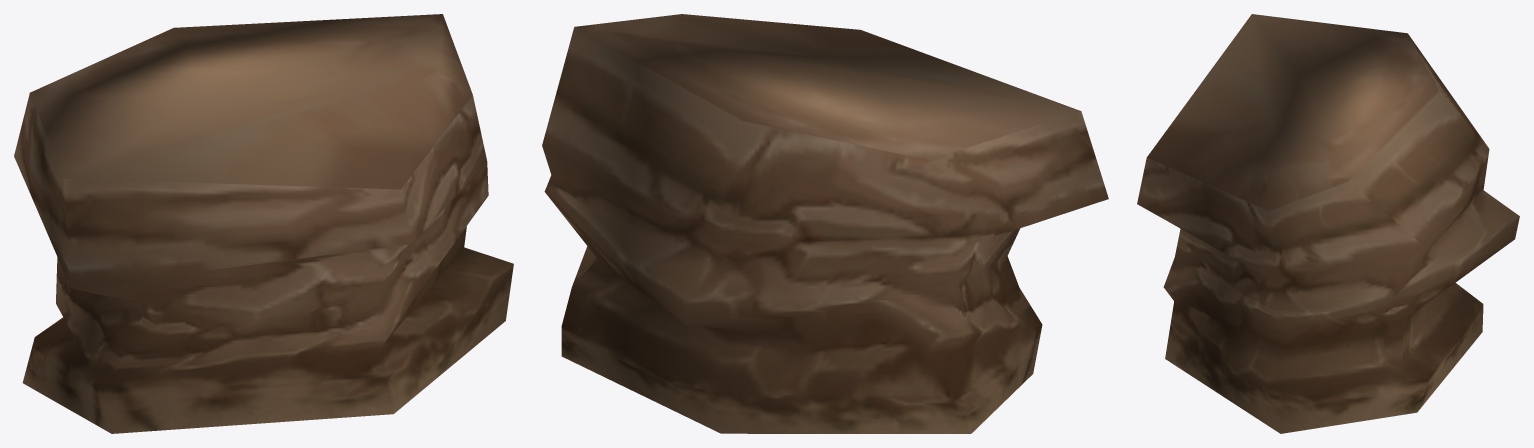
Rendered from FB_5_shanshi03.FBX.
3 views of the same model, side by side, from view 1: azimuth 30°, elevation 25°; view 2: azimuth 150°, elevation 25°; view 3: azimuth 270°, elevation 25° (orthographic). The views are drawn at different scales.
Parts seen in each view (by area): view 1: shitou09; view 2: shitou09; view 3: shitou09.
Part boxes in pixels (x1,y1,x2,y2): shitou09: (14,14,513,433); shitou09: (542,14,1108,433); shitou09: (1137,14,1519,433).
Size of the model in its own units: 1457 by 844 by 1205.
1 material, 1 textured.
